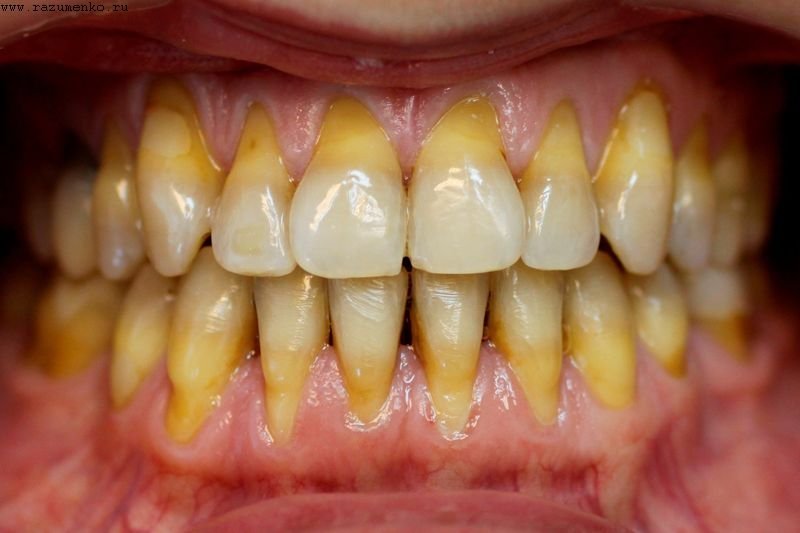LL1BC_decay: (629, 278, 697, 382)
LL2BC_decay: (691, 267, 765, 366)
LLCI_decay: (410, 273, 489, 444)
LLC_decay: (564, 269, 640, 416)
LLLI_decay: (494, 265, 568, 428)
LR1BC_decay: (107, 285, 166, 409)
LRCI_decay: (324, 277, 406, 424)
LRC_decay: (162, 263, 251, 433)
LRLI_decay: (249, 274, 327, 440)
UL1BC_decay: (674, 121, 722, 273)
ULCI_decay: (410, 96, 525, 277)
ULC_decay: (597, 85, 675, 279)
ULLI_decay: (523, 94, 603, 273)
UR1BC_decay: (90, 127, 147, 283)
URCI_decay: (289, 95, 409, 281)
URC_decay: (134, 83, 223, 277)
URLI_decay: (209, 101, 297, 274)
